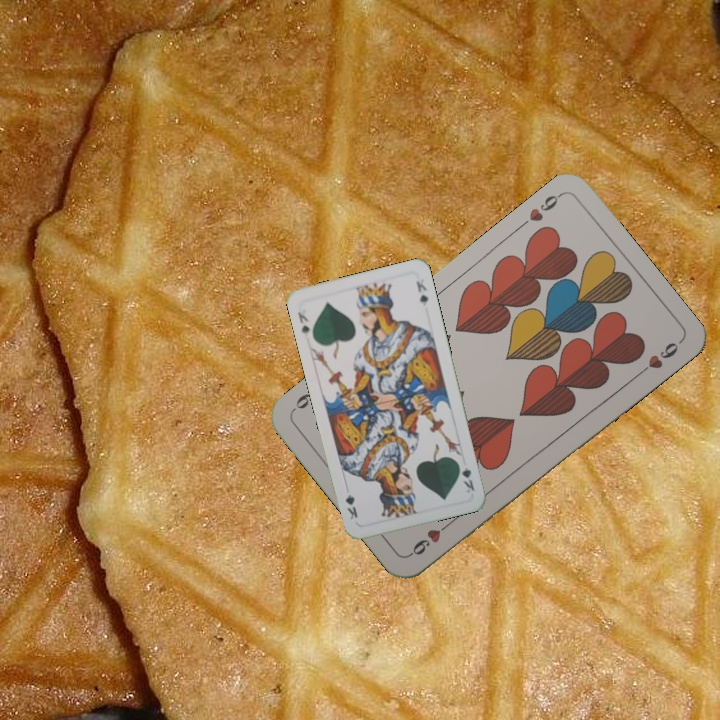GK: (454, 457, 477, 495), (294, 308, 312, 339)
H9: (406, 516, 455, 558), (525, 189, 565, 224)
